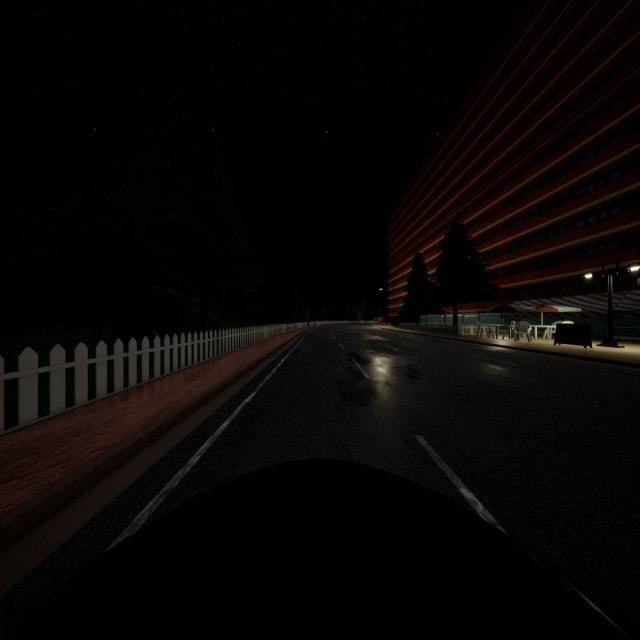Vehicle: (0, 457, 640, 640), (373, 316, 385, 324)
